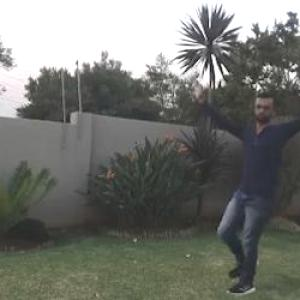takeoff: (186, 76, 299, 298)
